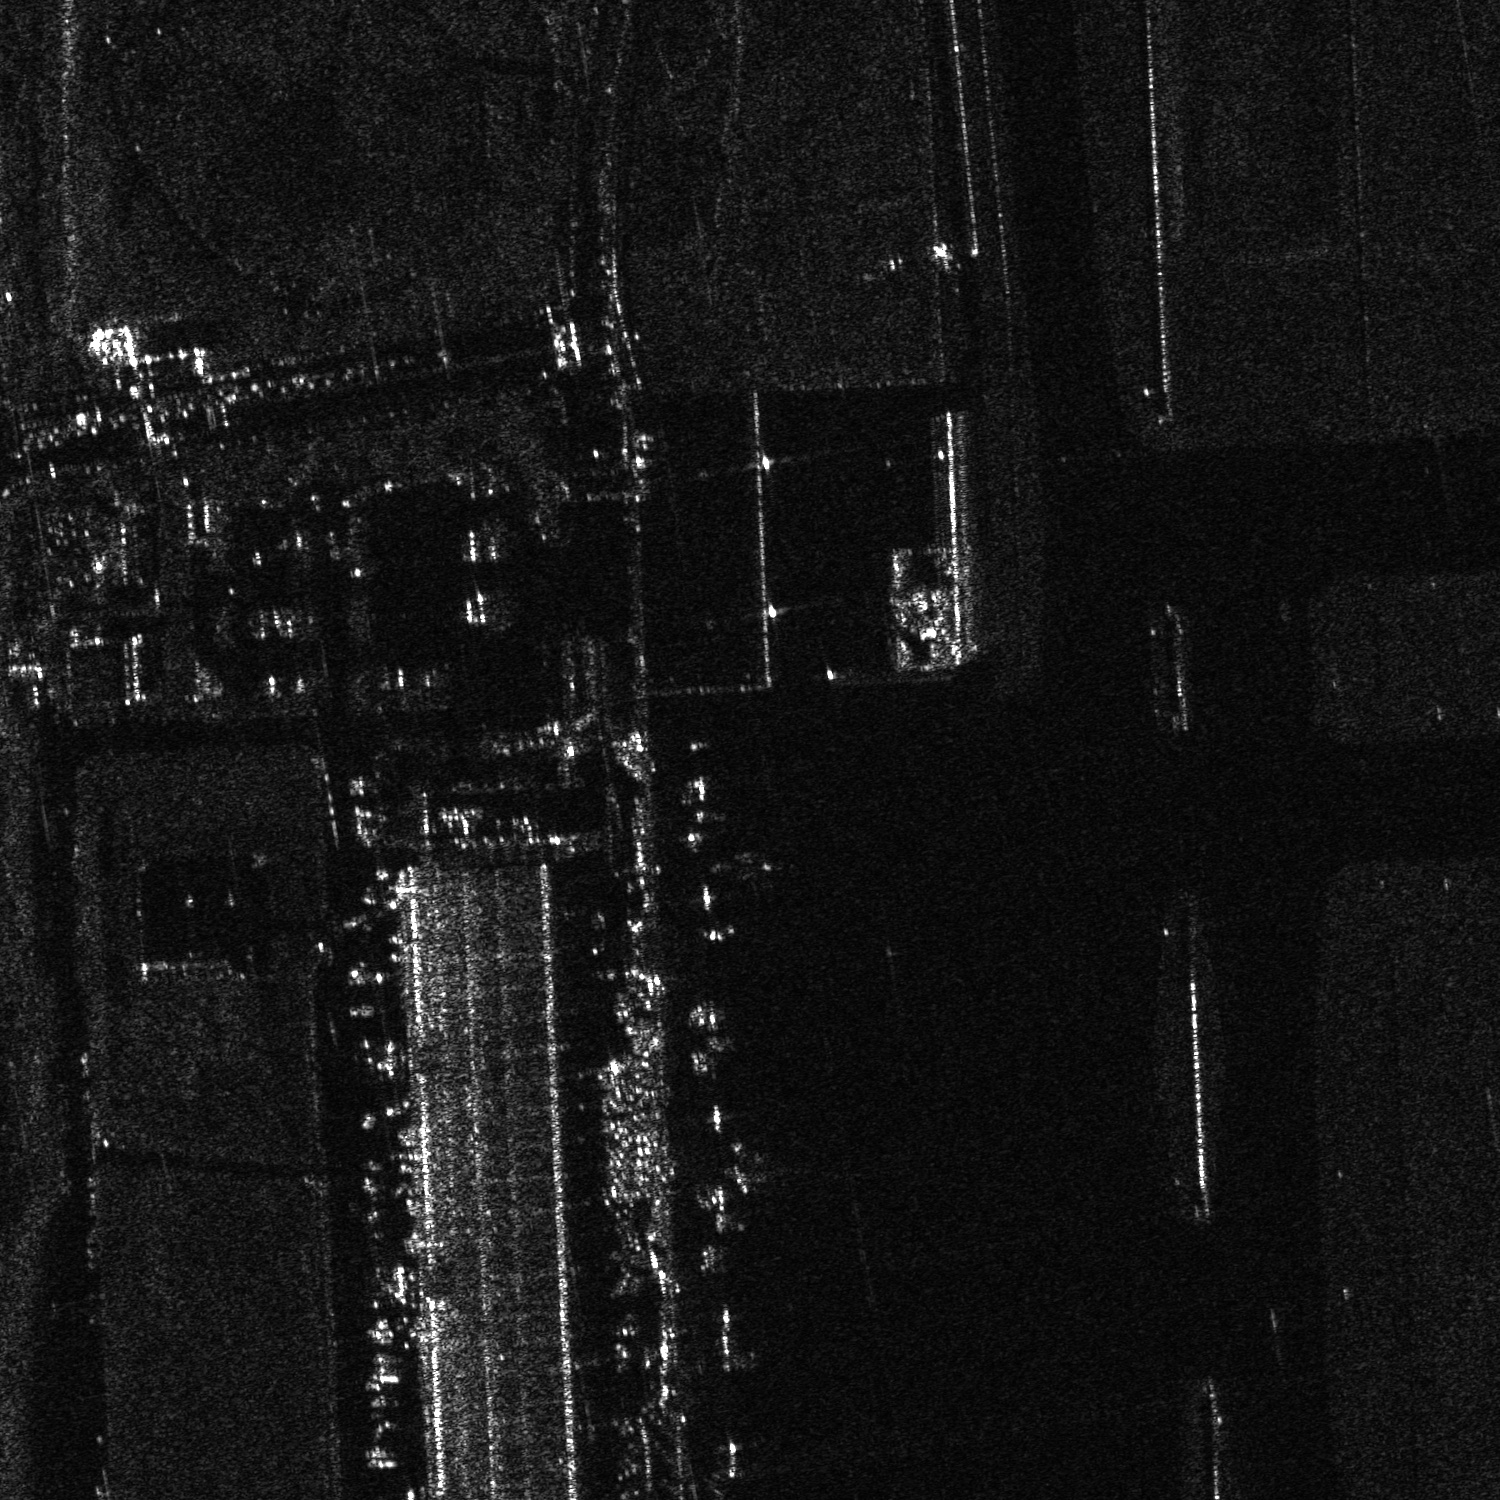Boeing737: (706, 848, 780, 889)
